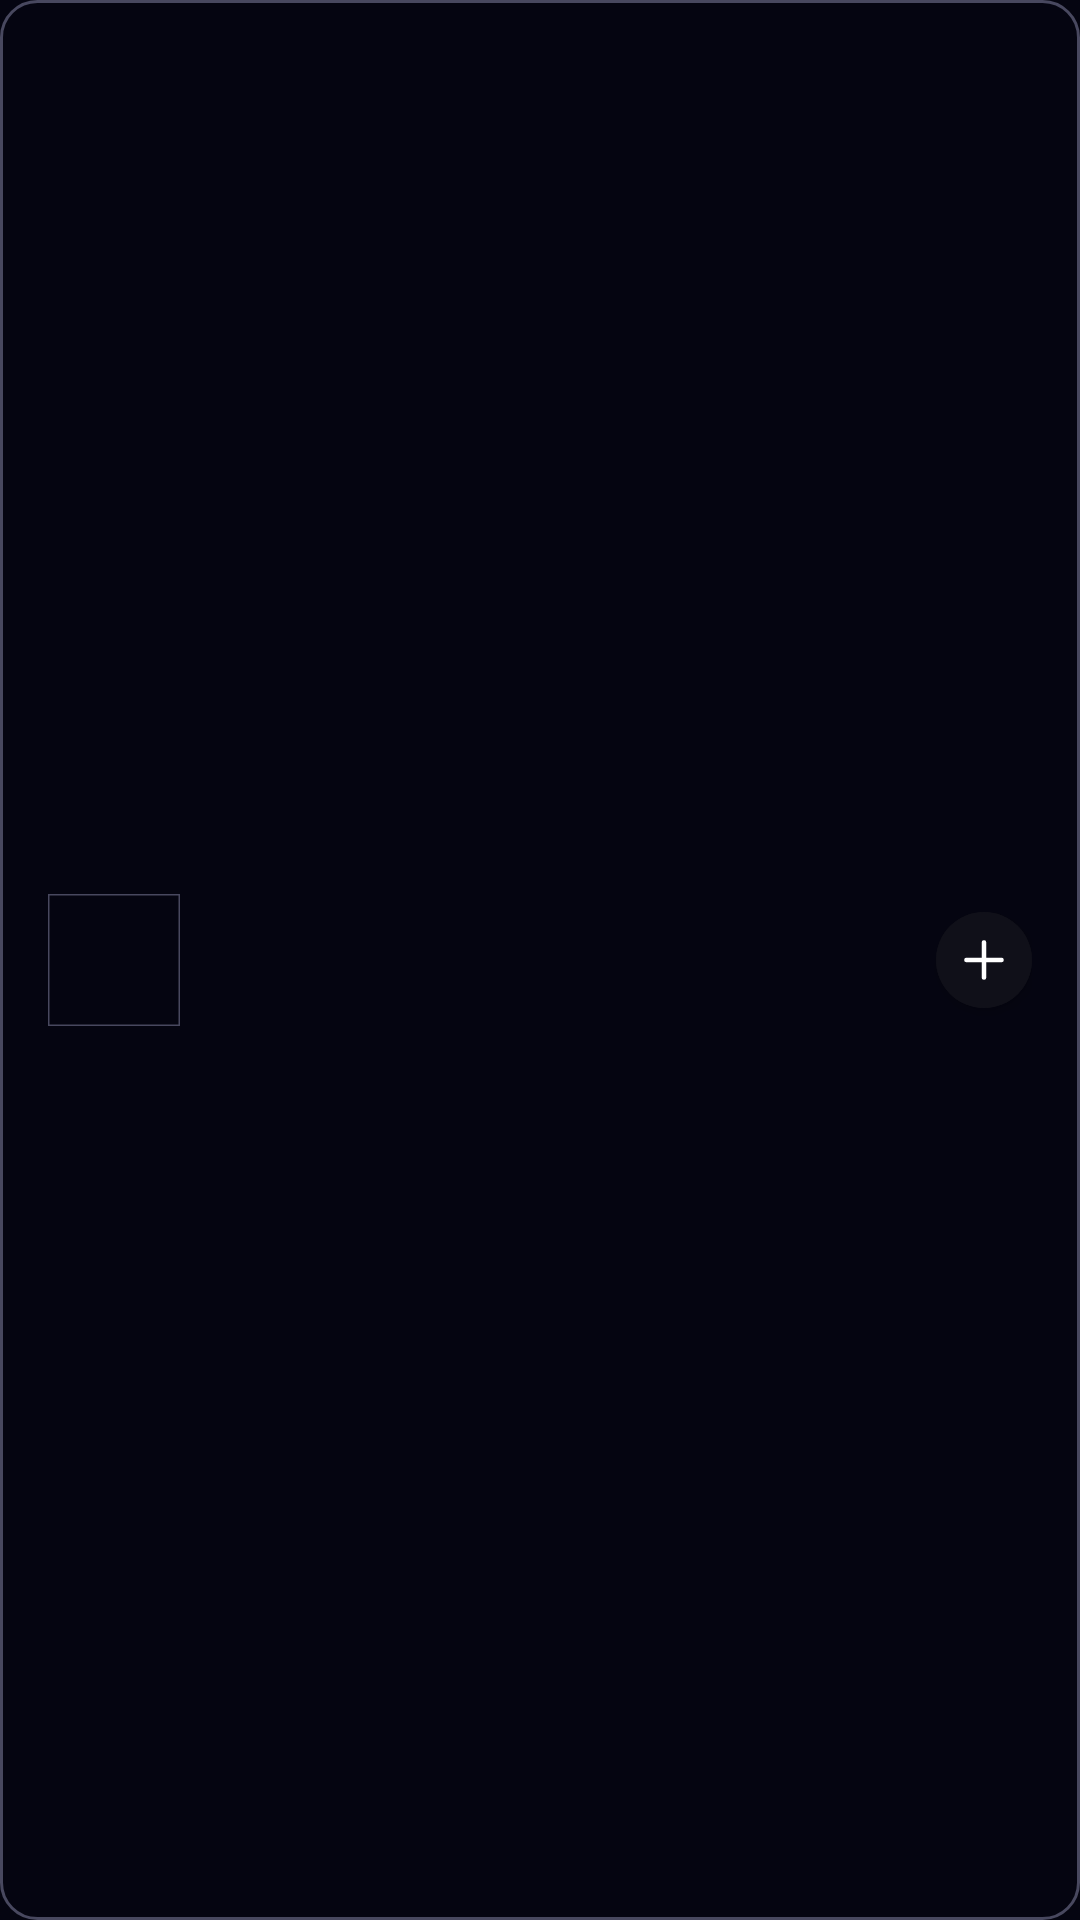

Icons on this 1080w x 1920h Android screen, each with the point to tap as point (x, y):
add: point (984, 960)
